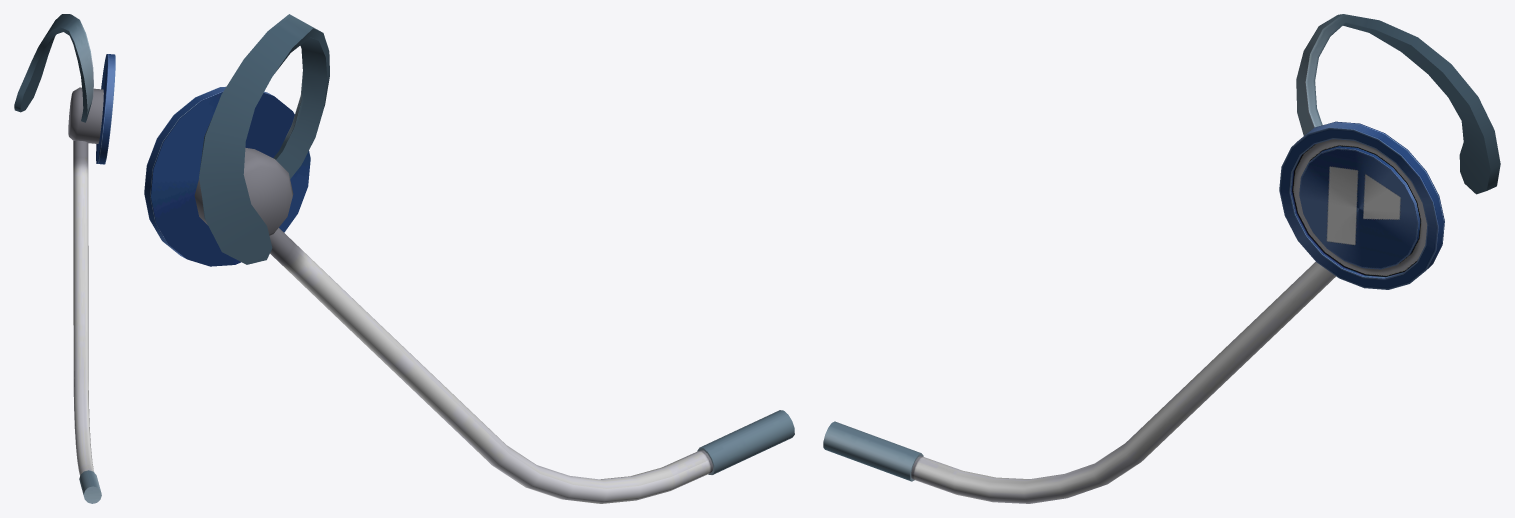
Rendered from EntrainingIntercomMidori.fbx.
The picture shows the model from 3 angles, left to right: view 1: azimuth 30°, elevation 25°; view 2: azimuth 150°, elevation 25°; view 3: azimuth 270°, elevation 25°; orthographic projection. The views are drawn at different scales.
Parts seen in each view (by area): view 1: EntrainingIntercomMidori; view 2: EntrainingIntercomMidori; view 3: EntrainingIntercomMidori.
Boxes of the visible parts, x1,y1,x2,y2 form: EntrainingIntercomMidori: [14, 14, 115, 503]; EntrainingIntercomMidori: [144, 14, 794, 503]; EntrainingIntercomMidori: [823, 14, 1500, 503].
Size of the model in its own units: 0.0479 by 0.0757 by 0.0818.
Materials: 1 (1 with a texture image).
